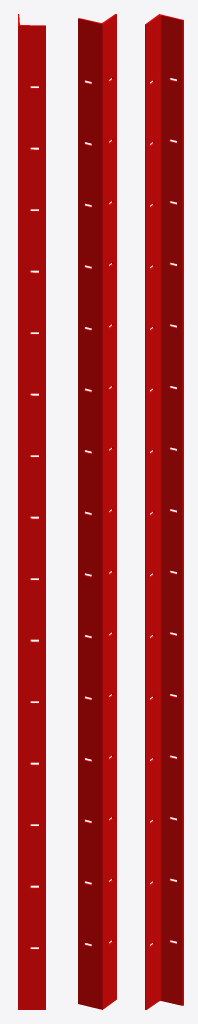
Rendered from SP-OCX8.glb.
3 views of the same model, side by side, from view 1: azimuth 90°, elevation 25°; view 2: azimuth 150°, elevation 25°; view 3: azimuth 330°, elevation 25° (orthographic).
Visible parts, largest first — view 1: sp-OCx8; view 2: sp-OCx8; view 3: sp-OCx8.
Boxes of the visible parts, x1,y1,x2,y2 form: sp-OCx8: (18, 14, 45, 1009); sp-OCx8: (78, 14, 116, 1009); sp-OCx8: (145, 14, 183, 1009).
Bounding box in the file's own units: 2.5 × 96 × 2.5.
